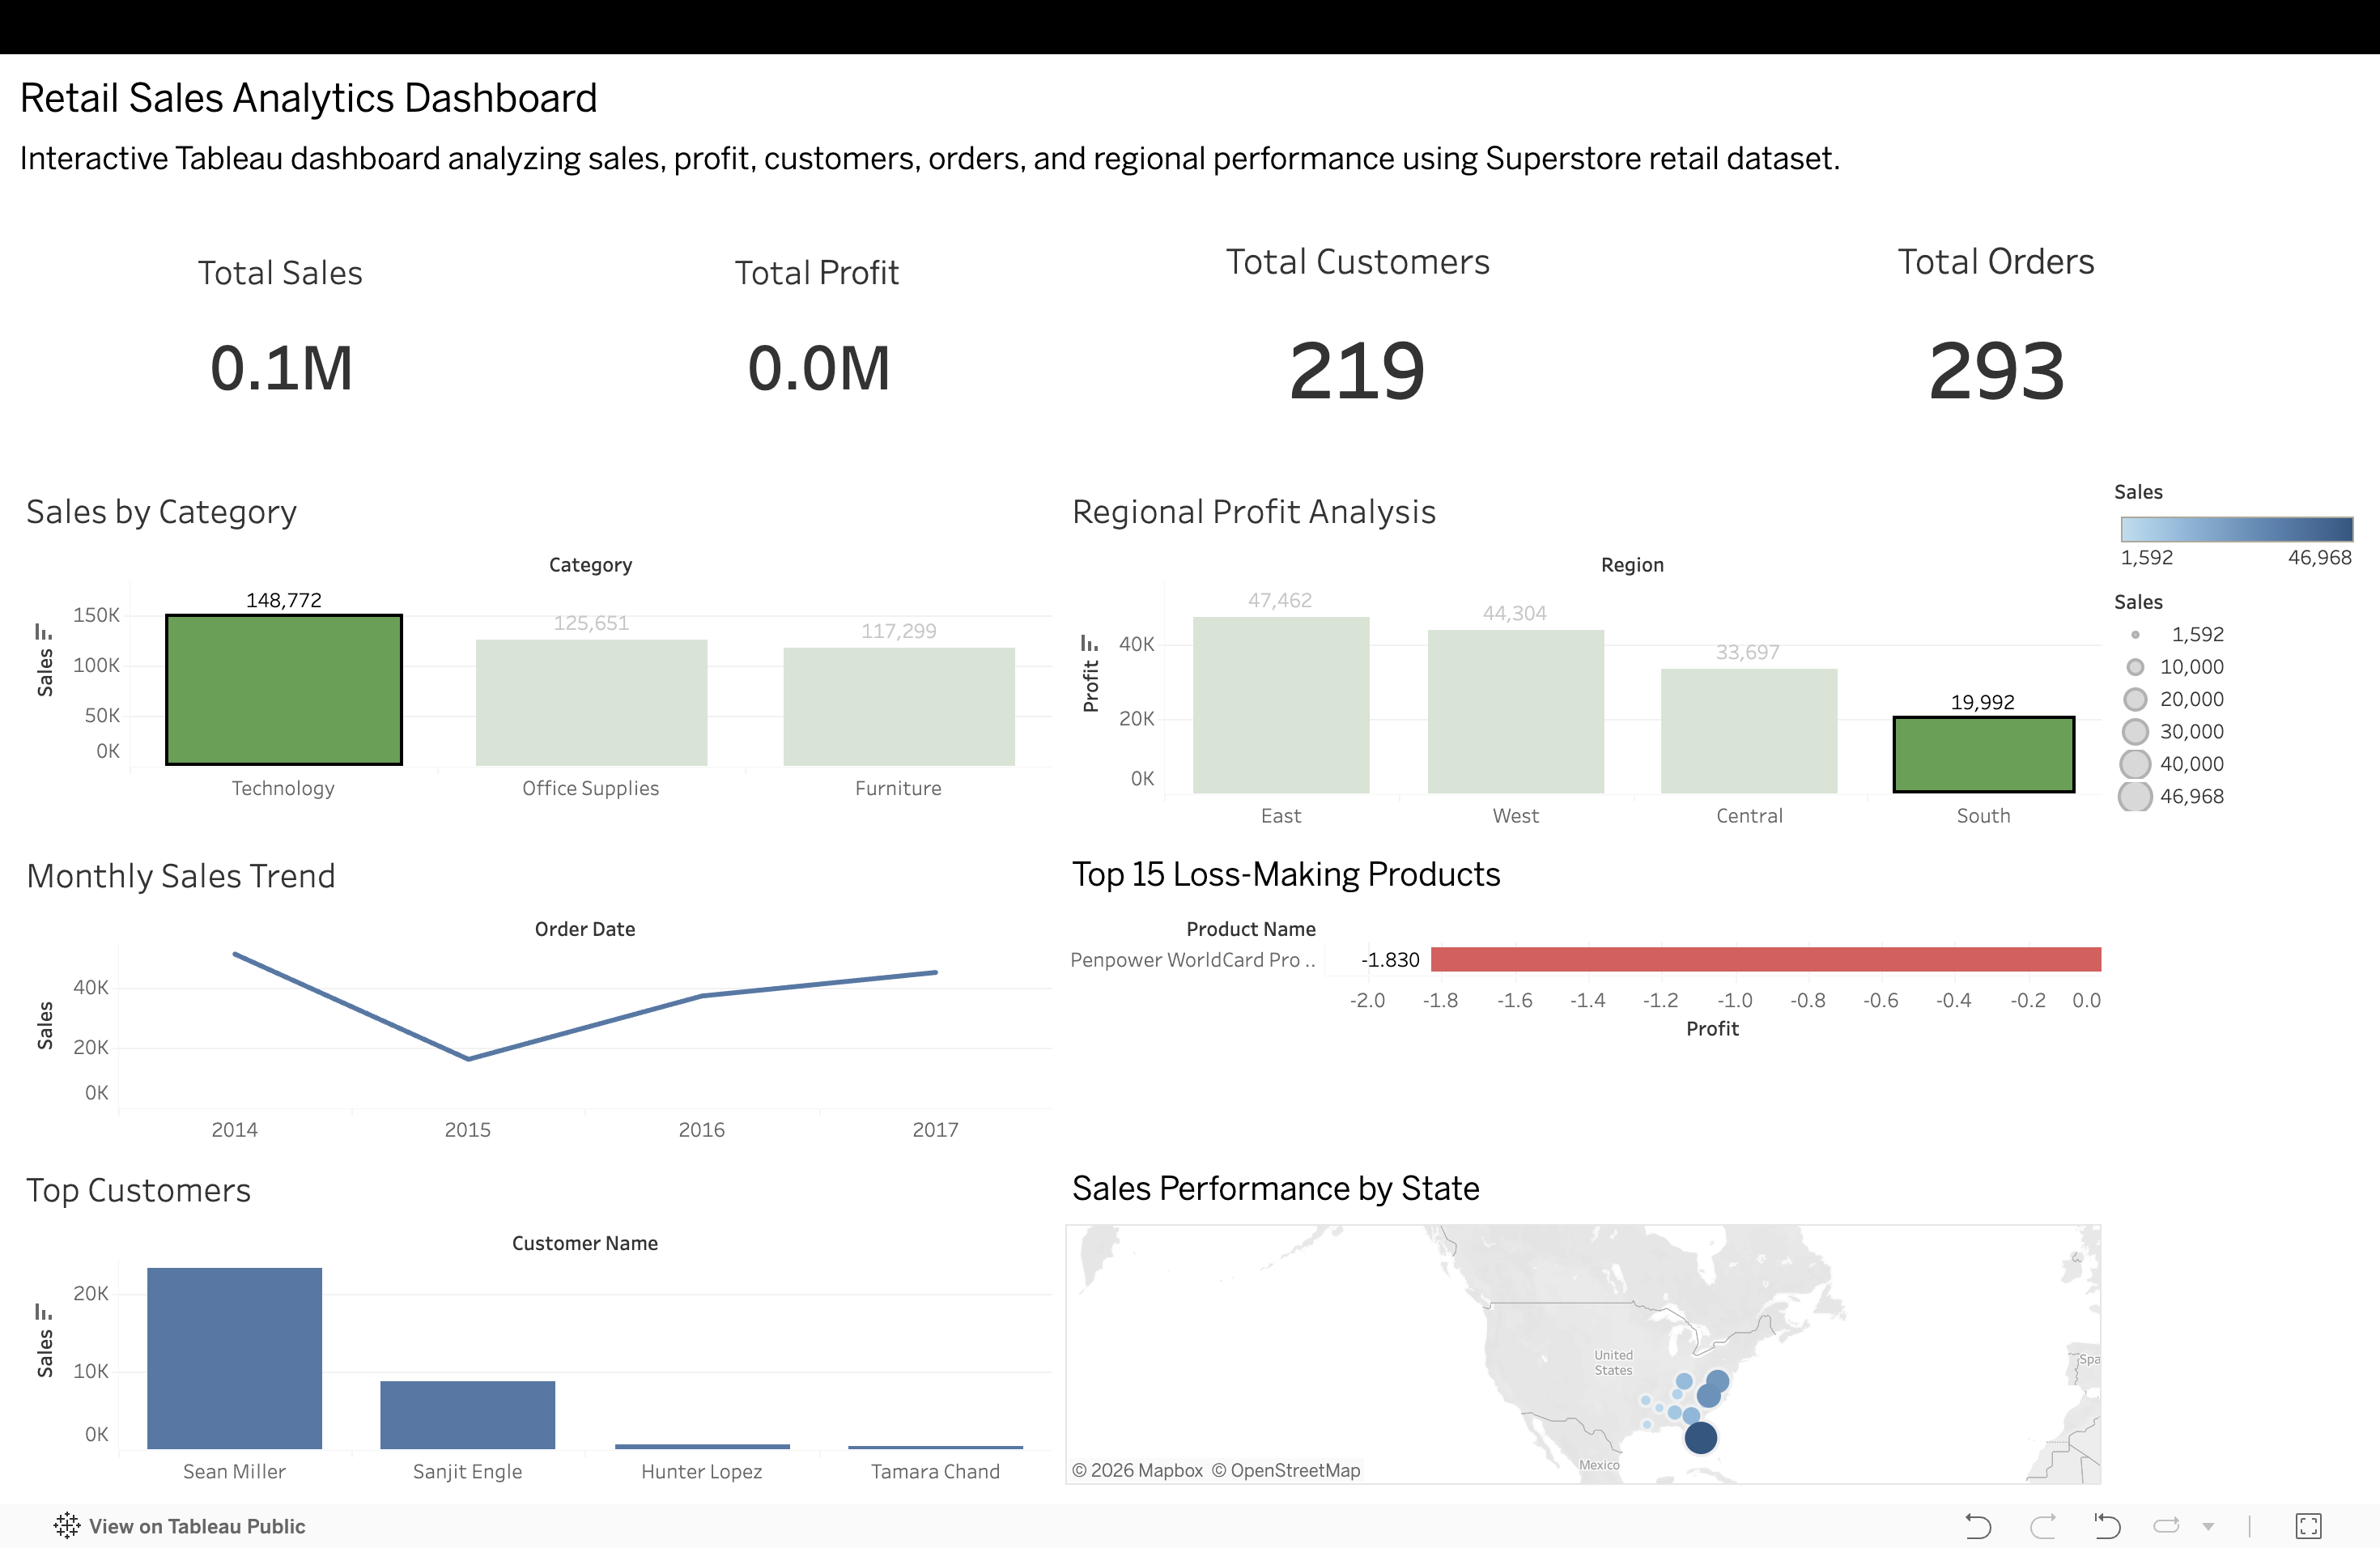

What the dashboard file says about the page in this screenshot:
{"tool":"tableau","page":{"name":"Retail Sales Performance Dashboard","canvas":[1000,1000],"units":"permille","ordinal":0},"visuals":[{"type":"title","box":[6.4,11,987.3,53.7]},{"type":"text","box":[6.4,64.7,987.3,44.1]},{"type":"worksheet","title":"Total Sales","mark":"Automatic","box":[6.4,108.8,225.6,192.8]},{"type":"worksheet","title":"Total Profit","mark":"Automatic","box":[231.9,108.8,225.6,192.8]},{"type":"worksheet","title":"Total Customers","mark":"Automatic","box":[457.5,108.8,225.6,192.8]},{"type":"worksheet","title":"Total Orders ","mark":"Automatic","box":[683.1,108.8,310.6,192.8]},{"type":"worksheet","title":"Sales by Category","mark":"Bar","rows":["Sales"],"cols":["Category"],"box":[6.4,301.6,429.7,245.3]},{"type":"worksheet","title":"Profit by Region","mark":"Automatic","rows":["Profit"],"cols":["Region"],"box":[436,301.6,430.5,245.3]},{"type":"legend","title":"Sales Map","param":"[federated.19wsm8m0yvffh61g49ogx0gm4pfi].[sum:Sales:qk]","box":[866.6,301.6,127.1,89.5]},{"type":"legend","title":"Sales Map","param":"[federated.19wsm8m0yvffh61g49ogx0gm4pfi].[sum:Sales:qk]","box":[866.6,391.2,127.1,201.1]},{"type":"worksheet","title":"Monthly Sales Trend","mark":"Line","rows":["Sales"],"cols":["Order Date"],"box":[6.4,546.9,429.7,211.7]},{"type":"worksheet","title":"Loss Products","mark":"Automatic","rows":["Product Name"],"cols":["Profit"],"box":[436,546.9,430.5,211.7]},{"type":"worksheet","title":"Top Customers","mark":"Automatic","rows":["Sales"],"cols":["Customer Name"],"box":[6.4,758.6,429.7,230.4]},{"type":"worksheet","title":"Sales Map","mark":"Automatic","box":[436.1,758.6,430.5,230.4]}]}

Visuals, with their boxes on the dashboard's canvas, which has no fixed pixel size, in thousandths of its width and height (x1, y1, x2, y2). These are canvas units, not pixel positions in the 2380x1548 screenshot, which may show the page scaled, cropped or inside an application window:
title: (x1=6, y1=11, x2=994, y2=65)
text: (x1=6, y1=65, x2=994, y2=109)
"Total Sales" worksheet: (x1=6, y1=109, x2=232, y2=302)
"Total Profit" worksheet: (x1=232, y1=109, x2=458, y2=302)
"Total Customers" worksheet: (x1=458, y1=109, x2=683, y2=302)
"Total Orders " worksheet: (x1=683, y1=109, x2=994, y2=302)
"Sales by Category" worksheet (Bar marks): (x1=6, y1=302, x2=436, y2=547)
"Profit by Region" worksheet: (x1=436, y1=302, x2=866, y2=547)
"Sales Map" legend: (x1=867, y1=302, x2=994, y2=391)
"Sales Map" legend: (x1=867, y1=391, x2=994, y2=592)
"Monthly Sales Trend" worksheet (Line marks): (x1=6, y1=547, x2=436, y2=759)
"Loss Products" worksheet: (x1=436, y1=547, x2=866, y2=759)
"Top Customers" worksheet: (x1=6, y1=759, x2=436, y2=989)
"Sales Map" worksheet: (x1=436, y1=759, x2=867, y2=989)
